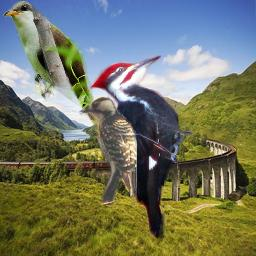Cuckoo: (0, 1, 110, 133)
Woodpecker: (90, 55, 193, 240), (79, 96, 137, 205)
